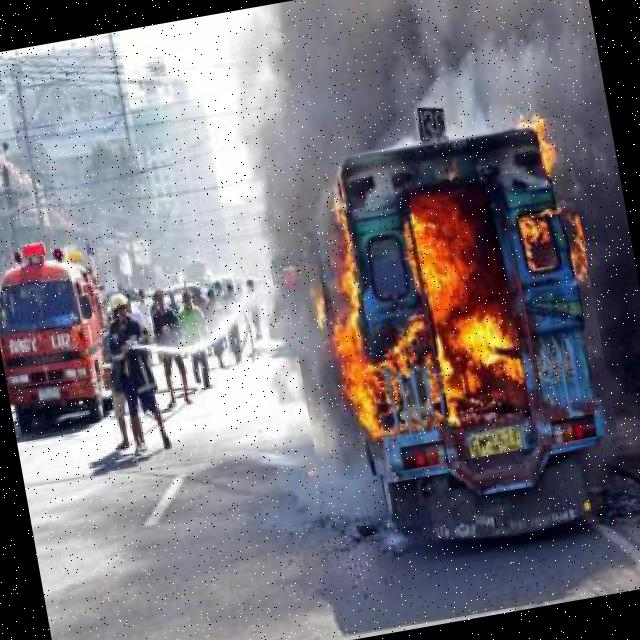fire: (265, 115, 617, 484)
